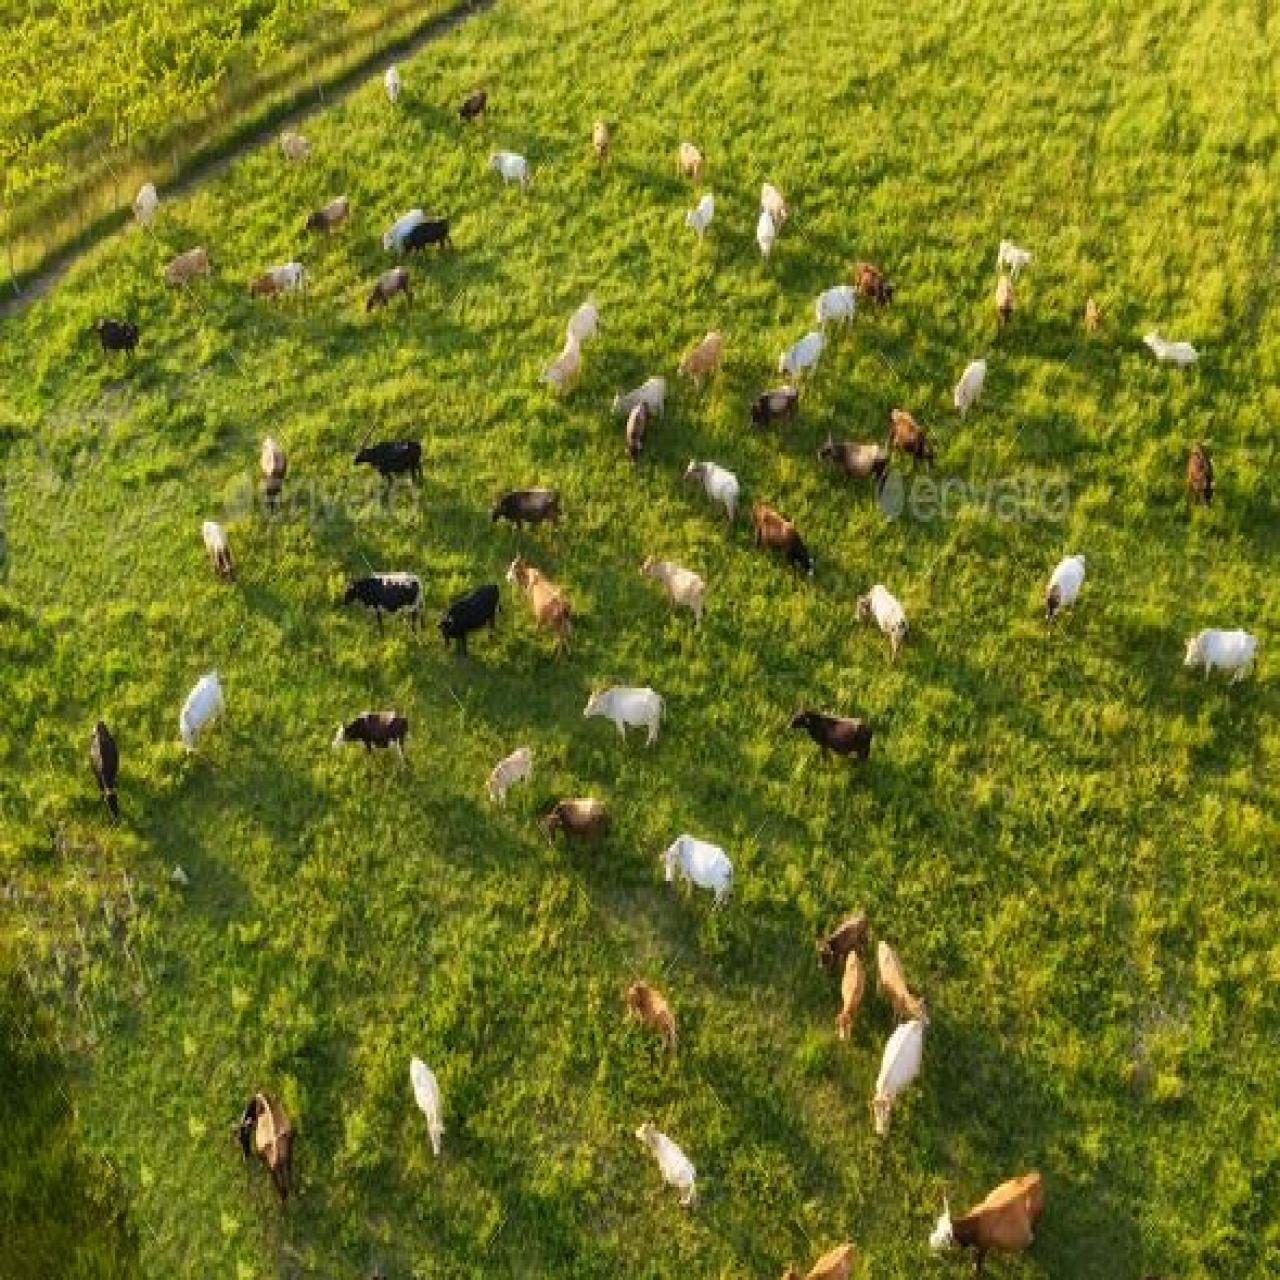cow: (947, 1167, 1044, 1274), (872, 1019, 930, 1136), (239, 1089, 297, 1198), (636, 1114, 702, 1208), (662, 836, 740, 906), (586, 686, 667, 747), (511, 560, 572, 634), (791, 710, 874, 764), (879, 935, 926, 1030), (1182, 624, 1257, 682), (620, 981, 678, 1057), (407, 1055, 448, 1160), (443, 581, 504, 651), (1142, 322, 1210, 383), (343, 571, 422, 624), (618, 366, 669, 445), (645, 557, 712, 617), (178, 672, 227, 750), (681, 462, 743, 523), (822, 437, 888, 491), (354, 436, 422, 488), (675, 328, 727, 395), (546, 792, 611, 845), (860, 590, 912, 654), (340, 709, 406, 760), (1042, 552, 1089, 621), (387, 209, 450, 259), (775, 332, 828, 389), (486, 747, 537, 806), (891, 397, 934, 467), (753, 179, 790, 259), (837, 948, 865, 1054), (497, 488, 564, 531), (560, 304, 600, 374), (749, 384, 803, 436), (257, 436, 292, 513), (949, 355, 993, 415), (811, 284, 859, 335), (753, 503, 798, 554), (198, 519, 236, 581), (252, 260, 304, 305), (300, 195, 358, 234), (91, 319, 137, 368), (1184, 448, 1218, 513), (369, 267, 416, 314), (90, 714, 116, 797), (489, 148, 532, 195), (454, 84, 496, 130), (674, 139, 712, 186), (622, 401, 649, 455)
